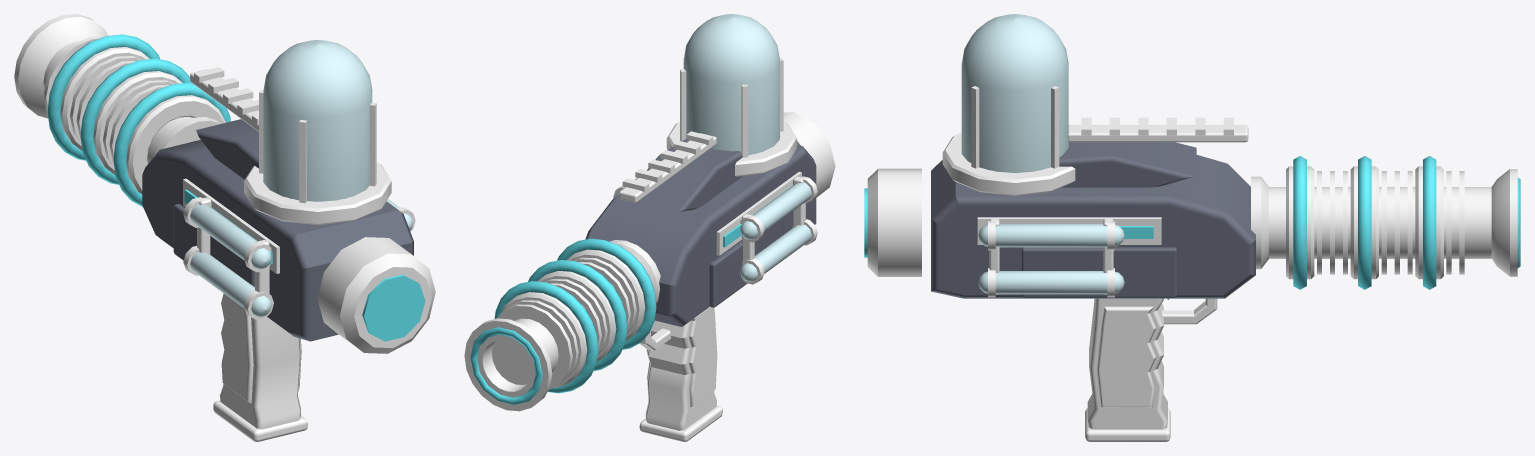
Rendered from PlasmaCannon.glb.
The picture shows the model from 3 angles, left to right: view 1: azimuth 30°, elevation 25°; view 2: azimuth 150°, elevation 25°; view 3: azimuth 270°, elevation 25°; orthographic projection. The views are drawn at different scales.
Parts seen in each view (by area): view 1: Base, Glass, Primary, AccentGlow; view 2: Base, Primary, Glass, AccentGlow; view 3: Base, Primary, Glass, AccentGlow.
Part boxes in pixels (x1,y1,x2,y2): Base: (14,14,435,441); Glass: (190,40,413,316); Primary: (142,119,413,341); AccentGlow: (47,34,425,341); Base: (464,58,835,441); Primary: (585,138,816,326); Glass: (616,14,811,281); AccentGlow: (470,185,792,404); Base: (867,86,1517,441); Primary: (931,142,1255,298); Glass: (961,14,1124,294); AccentGlow: (864,156,1520,289).
Size of the model in its own units: 1.47 by 3.51 by 5.07.
